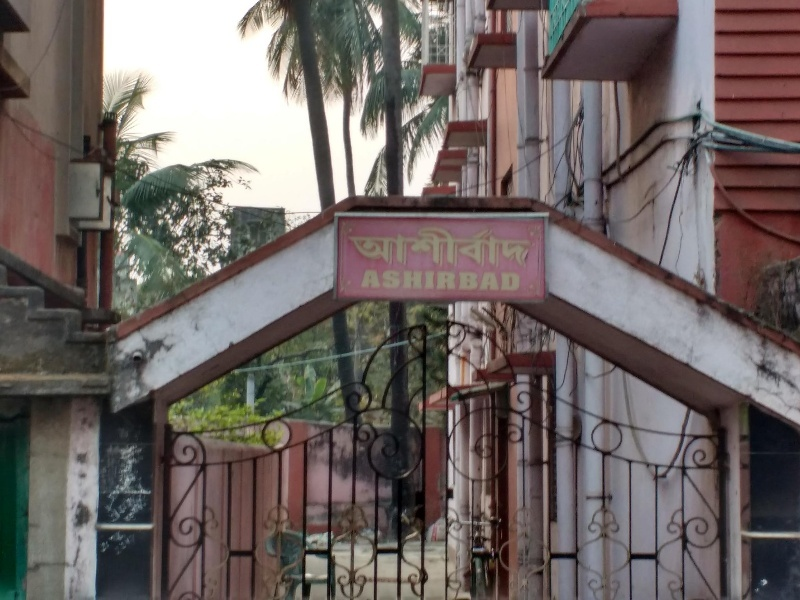text: (353, 223, 368, 270), (369, 223, 384, 270), (385, 223, 400, 270), (401, 223, 416, 270), (417, 223, 432, 270), (433, 223, 448, 270), (449, 223, 464, 270), (465, 223, 480, 270), (481, 223, 496, 270), (497, 223, 512, 270), (513, 223, 528, 270), (529, 223, 538, 270), (369, 267, 384, 294), (385, 267, 400, 294), (401, 267, 416, 294), (417, 267, 432, 294), (433, 267, 448, 294), (449, 267, 464, 294), (465, 267, 480, 294), (481, 267, 496, 294), (497, 267, 512, 294), (513, 267, 525, 294), (347, 223, 352, 270), (360, 267, 368, 294)
